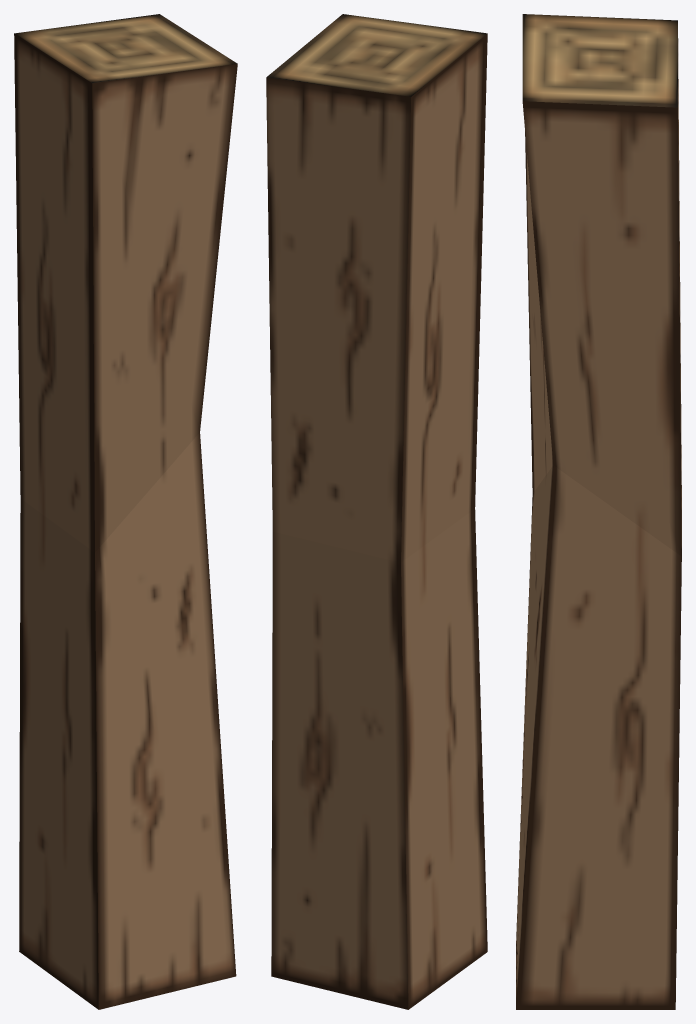
The model's file is płot0.fbx.
3 renders of one model, left to right at view 1: azimuth 30°, elevation 25°; view 2: azimuth 150°, elevation 25°; view 3: azimuth 270°, elevation 25°, orthographic.
Visible parts, largest first — view 1: płot0; view 2: płot0; view 3: płot0.
Part boxes in pixels (<box>): płot0: <box>14,14,237,1009</box>; płot0: <box>266,14,487,1009</box>; płot0: <box>516,14,681,1009</box>.
Size of the model in its own units: 21.6 by 131 by 21.17.
Materials: 1 (1 with a texture image).
